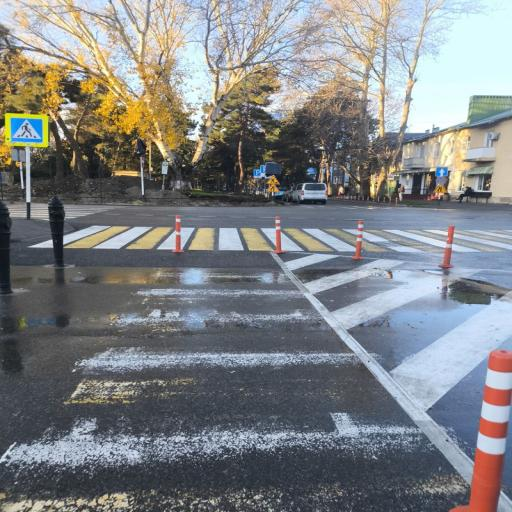bottle: (292, 183, 326, 204)
closet: (64, 226, 175, 250), (66, 205, 116, 219)
laptop: (458, 187, 472, 202)
ramp: (0, 202, 511, 510)
